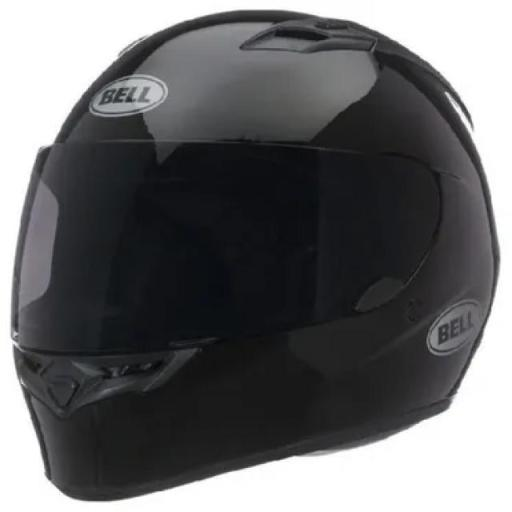Helmet: (12, 14, 490, 510)
